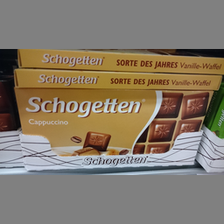chocolate: (14, 88, 214, 165)
